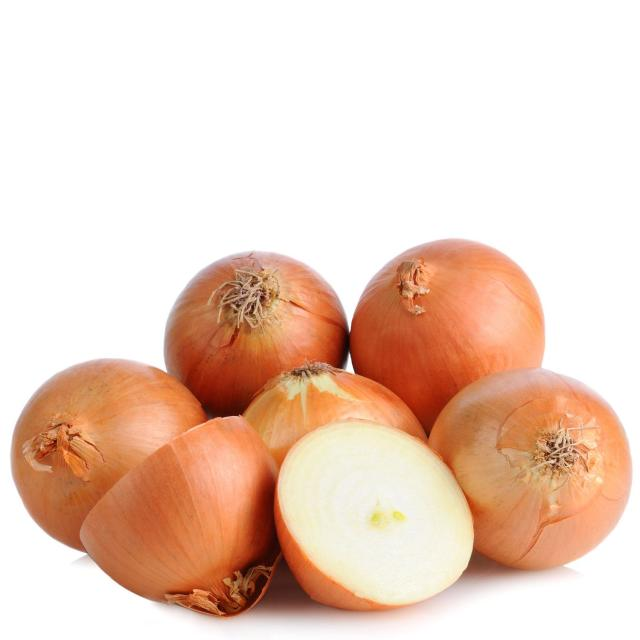onion: (83, 406, 274, 621), (12, 353, 208, 552), (432, 376, 624, 573), (275, 426, 477, 612), (342, 235, 546, 418), (163, 255, 349, 400), (239, 364, 430, 474)
